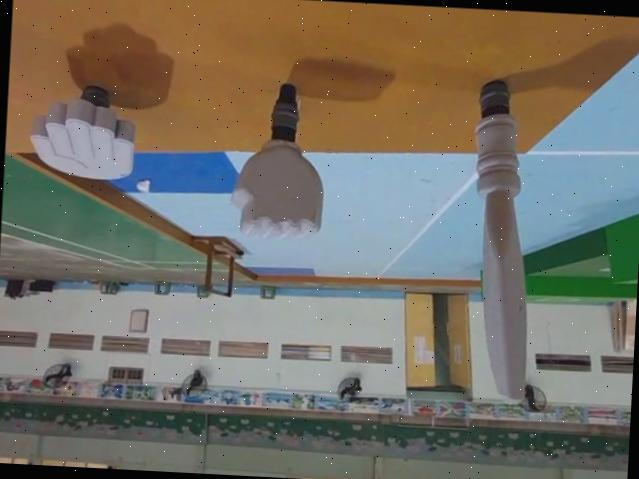Fist: (223, 78, 346, 242)
Hand: (31, 79, 141, 187)
Sph: (453, 74, 540, 410)
